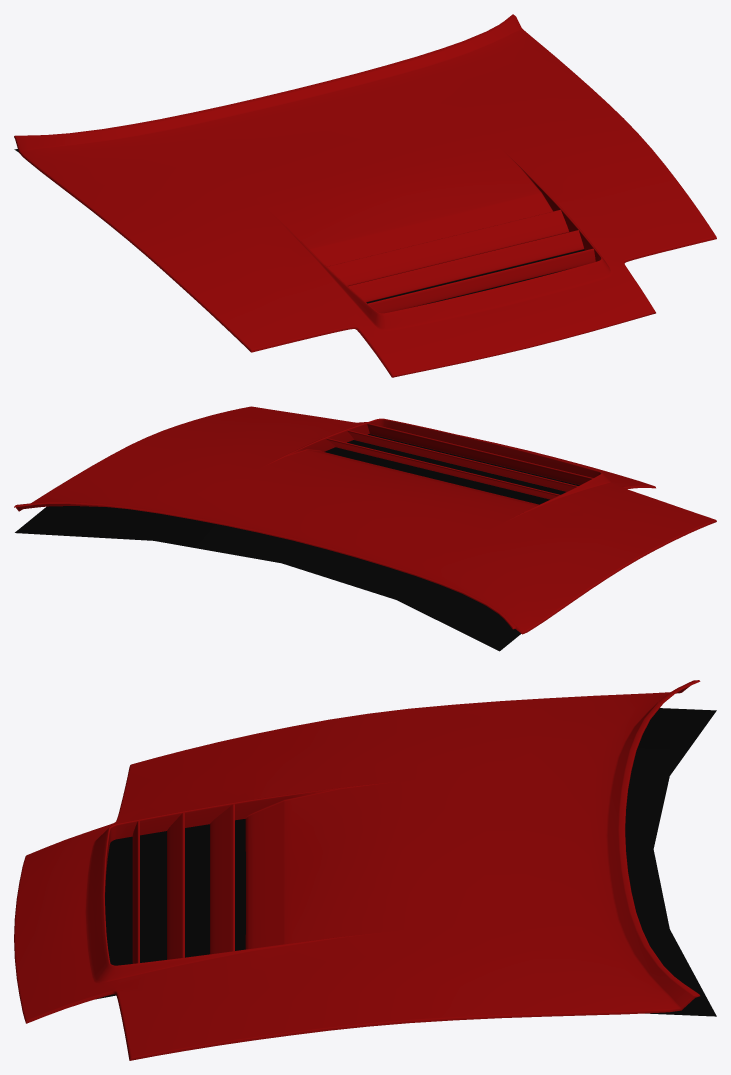
Rendered from bonnet_koguchipowermax.glb.
3 views of the same model, one above another, from view 1: azimuth 30°, elevation 25°; view 2: azimuth 150°, elevation 25°; view 3: azimuth 270°, elevation 25° (orthographic). The views are drawn at different scales.
Parts seen in each view (by area): view 1: Bonnet, Cover; view 2: Bonnet, Cover; view 3: Bonnet, Cover.
Part boxes in pixels (x1=…): Bonnet: x1=14, y1=14, x2=716, y2=377; Cover: x1=14, y1=149, x2=585, y2=304; Bonnet: x1=14, y1=406, x2=716, y2=634; Cover: x1=15, y1=434, x2=579, y2=651; Bonnet: x1=14, y1=680, x2=700, y2=1060; Cover: x1=96, y1=708, x2=716, y2=1016.
Size of the model in its own units: 1.45 by 0.2383 by 1.36.
